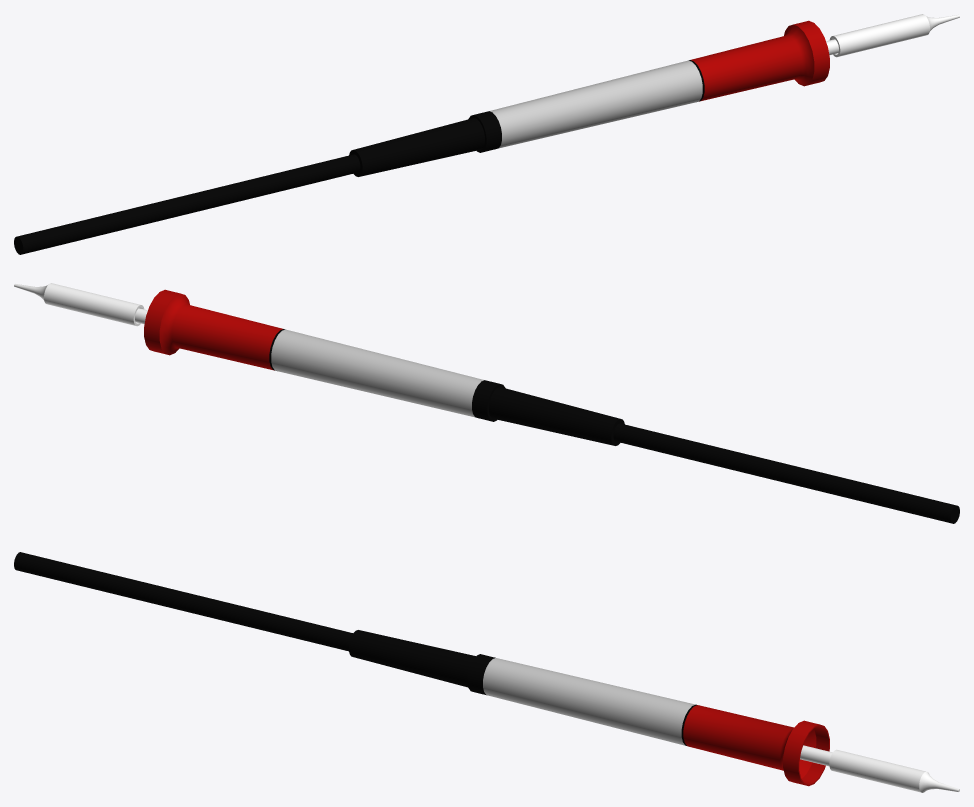
File: SolderingIron.dae
3 renders of one model, top to bottom at view 1: azimuth 30°, elevation 25°; view 2: azimuth 150°, elevation 25°; view 3: azimuth 330°, elevation 25°, orthographic.
Visible parts, largest first — view 1: FullSoldering; view 2: FullSoldering; view 3: FullSoldering.
Part boxes in pixels (bbox=[...]): FullSoldering: bbox=[14, 14, 959, 254]; FullSoldering: bbox=[14, 283, 959, 523]; FullSoldering: bbox=[14, 552, 959, 792].
Bounding box in the file's own units: 0.3625 × 0.0211 × 0.0208.
